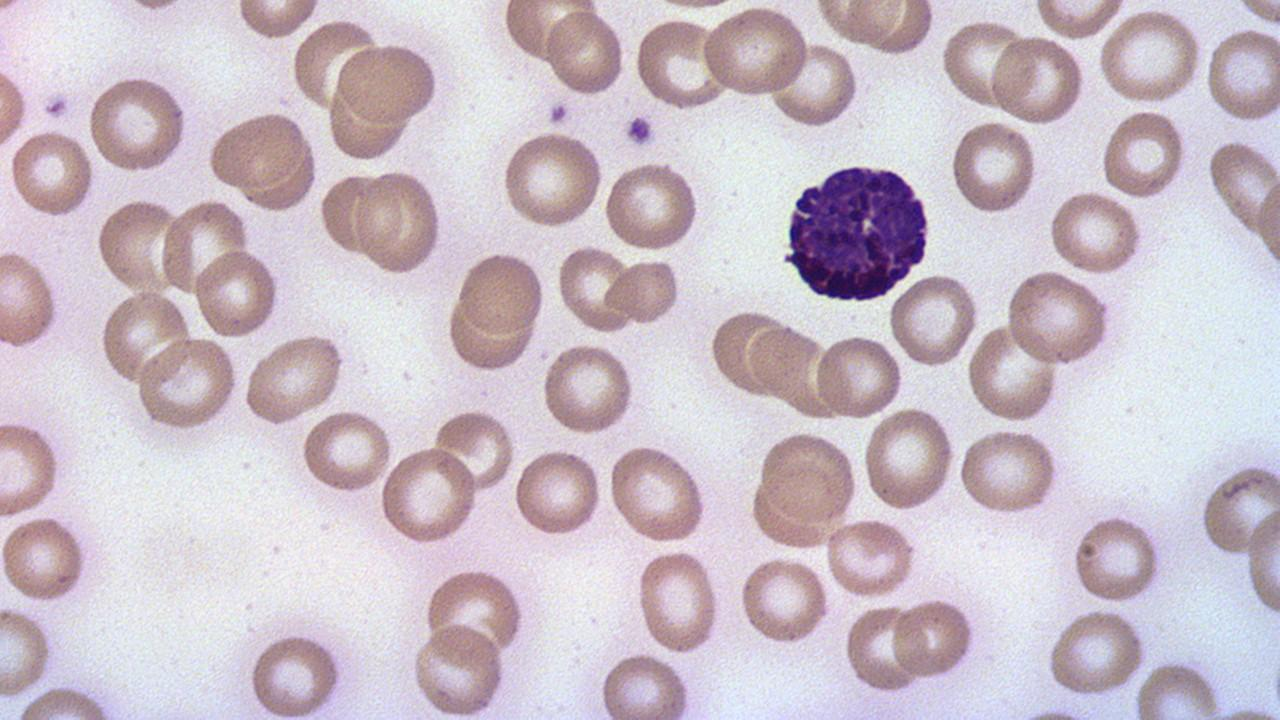Platelets: (626, 113, 656, 148)
RBC: (85, 72, 189, 176), (500, 127, 604, 231), (1006, 268, 1115, 366), (606, 444, 710, 545), (422, 566, 529, 664), (135, 334, 241, 432), (861, 406, 957, 514), (242, 331, 351, 426), (1098, 8, 1204, 105), (702, 5, 810, 100), (379, 445, 479, 546), (758, 427, 860, 523), (956, 426, 1063, 516), (965, 323, 1060, 423), (602, 158, 702, 253), (98, 288, 192, 389), (1045, 607, 1149, 698), (411, 620, 509, 716), (632, 15, 730, 111), (356, 168, 443, 276), (159, 196, 249, 300), (746, 320, 842, 417), (335, 39, 442, 126), (635, 548, 722, 654), (990, 33, 1086, 128), (542, 341, 636, 438), (888, 270, 979, 370), (950, 117, 1039, 219), (206, 109, 313, 193), (246, 627, 345, 717), (737, 554, 831, 647), (512, 446, 604, 540), (291, 15, 378, 114), (95, 196, 182, 294), (1072, 511, 1162, 605), (301, 406, 394, 496), (1047, 190, 1143, 277), (814, 331, 906, 421), (1199, 460, 1279, 563), (1, 514, 90, 606), (9, 126, 96, 220), (768, 40, 859, 129), (1100, 107, 1186, 201), (941, 17, 1027, 110), (1205, 23, 1280, 126), (195, 247, 278, 340), (822, 516, 916, 598), (458, 249, 546, 336), (434, 407, 516, 498), (545, 8, 626, 100), (1206, 137, 1280, 237), (557, 241, 636, 334), (892, 594, 976, 681), (844, 603, 922, 694), (317, 167, 393, 258), (597, 650, 694, 720), (0, 418, 62, 520), (0, 248, 61, 350), (500, 2, 594, 63), (0, 601, 57, 700), (607, 256, 683, 326), (848, 1, 936, 54), (1244, 502, 1280, 622), (1030, 1, 1126, 40), (232, 1, 324, 38), (1254, 166, 1280, 282), (0, 54, 28, 161)
WBC: (778, 157, 935, 308)
